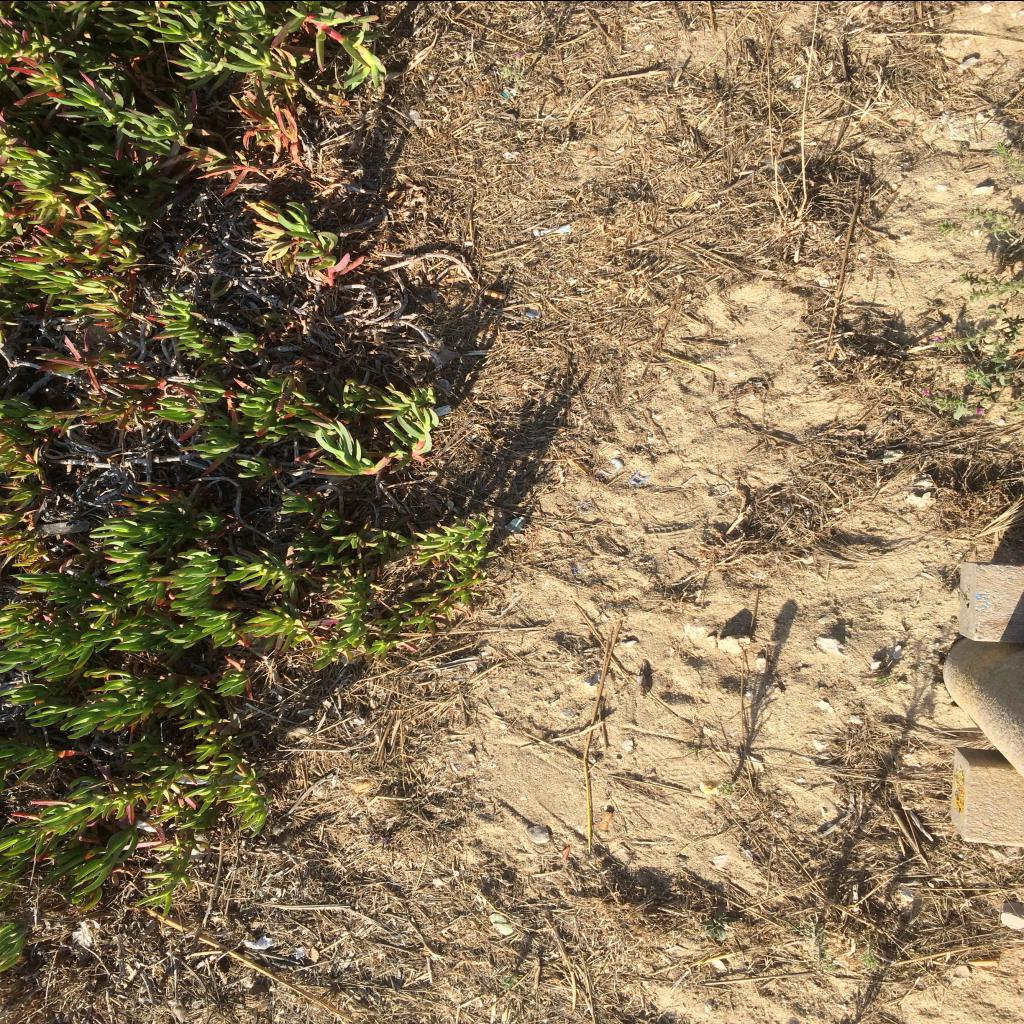Cigarette: (966, 958, 998, 966), (600, 810, 614, 828), (484, 288, 507, 298)
Metal bottle cap: (600, 457, 624, 475), (506, 514, 528, 532)
Pop tab: (628, 466, 652, 484), (712, 483, 728, 497), (578, 500, 594, 513)
Unlabeled litter: (541, 224, 570, 234)
